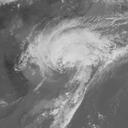cyclone: (35, 18, 104, 72)
